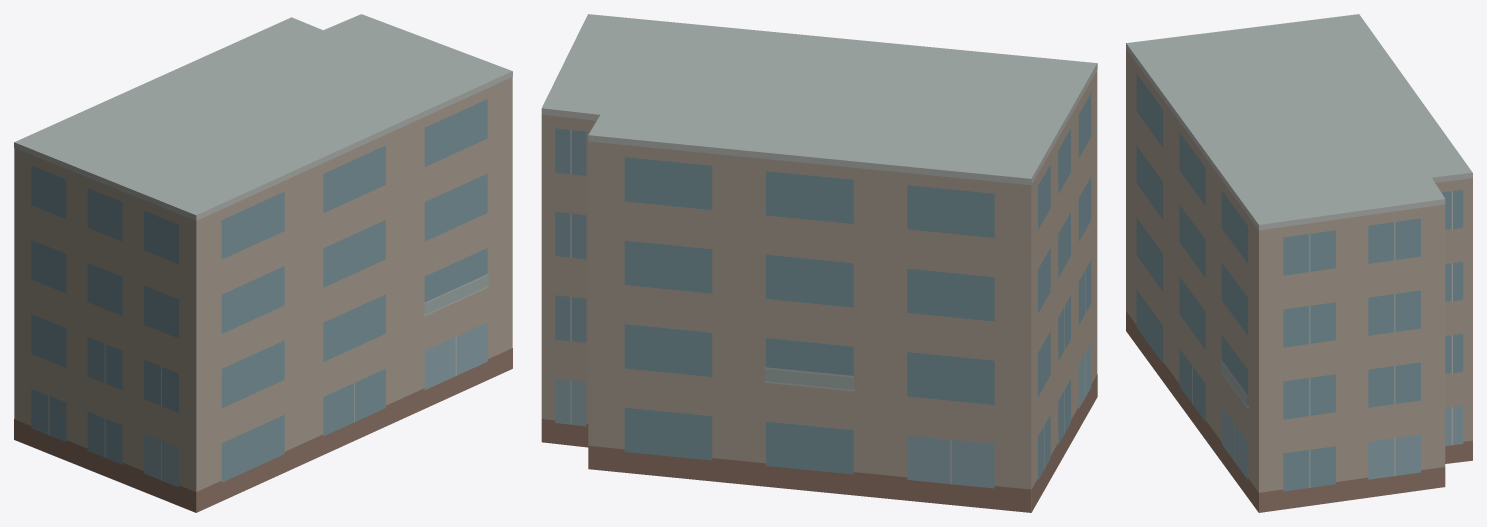
Rendered from survey-upis-32612275.glb.
3 views of the same model, side by side, from view 1: azimuth 30°, elevation 25°; view 2: azimuth 150°, elevation 25°; view 3: azimuth 270°, elevation 25° (orthographic). The views are drawn at different scales.
Parts seen in each view (by area): view 1: survey-upis-32612275.tmp; view 2: survey-upis-32612275.tmp; view 3: survey-upis-32612275.tmp.
Part boxes in pixels (x1,y1,x2,y2): survey-upis-32612275.tmp: (14, 14, 512, 512); survey-upis-32612275.tmp: (541, 14, 1097, 512); survey-upis-32612275.tmp: (1126, 14, 1472, 512).
Bounding box in the file's own units: 20.13 × 12.8 × 13.98.
